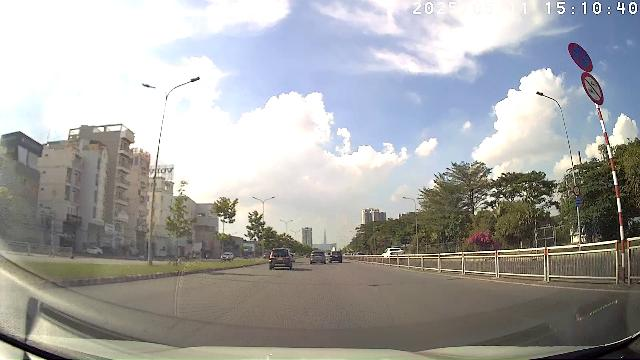130-cam-dung-va-do-xe: (568, 42, 594, 72)
